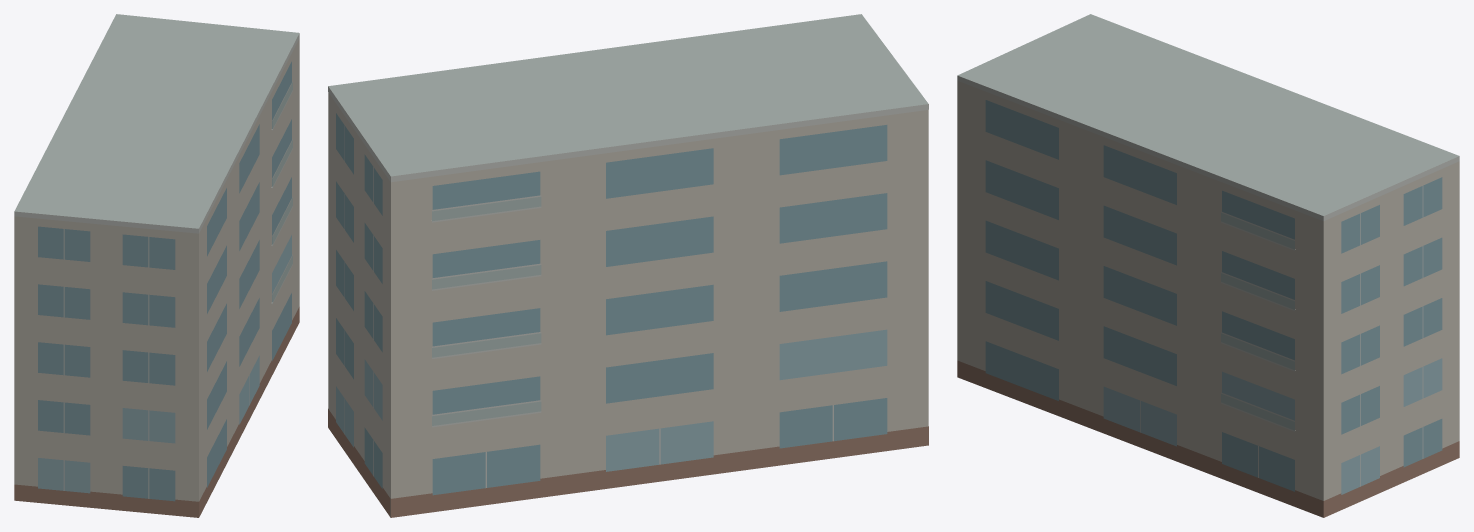
The model's file is survey-upis-32524284.glb.
3 renders of one model, left to right at view 1: azimuth 30°, elevation 25°; view 2: azimuth 150°, elevation 25°; view 3: azimuth 270°, elevation 25°, orthographic. The views are drawn at different scales.
Parts seen in each view (by area): view 1: survey-upis-32524284.tmp; view 2: survey-upis-32524284.tmp; view 3: survey-upis-32524284.tmp.
Boxes of the visible parts, x1,y1,x2,y2 form: survey-upis-32524284.tmp: [14, 14, 299, 517]; survey-upis-32524284.tmp: [328, 14, 928, 517]; survey-upis-32524284.tmp: [957, 14, 1459, 517].
Bounding box in the file's own units: 20.7 × 14.4 × 21.74.
